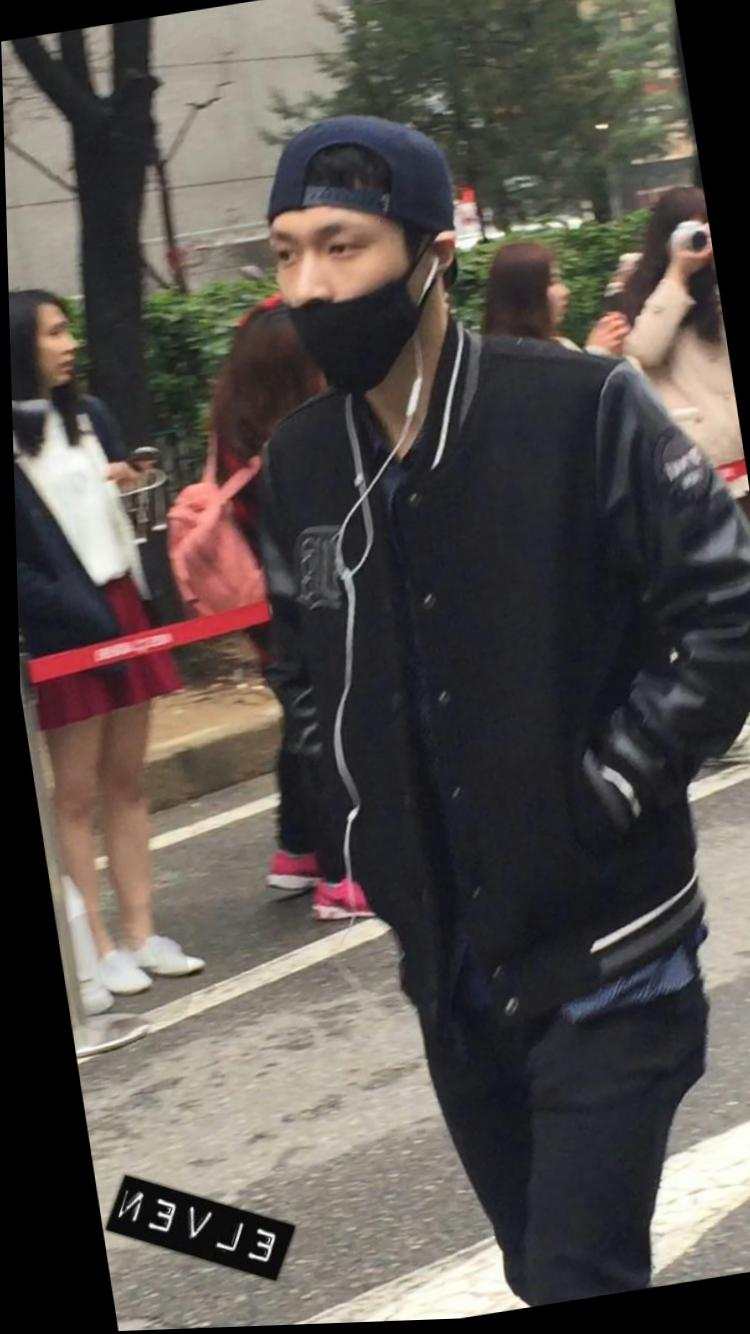NONE: (11, 313, 86, 393), (521, 273, 575, 335)
WRONG: (251, 195, 451, 396)
